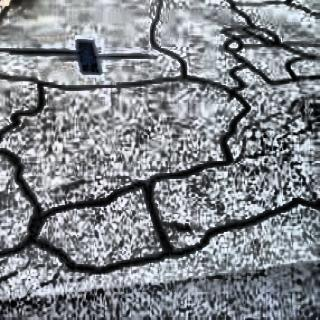alligator-crack: (236, 93, 317, 182), (0, 248, 75, 314)
